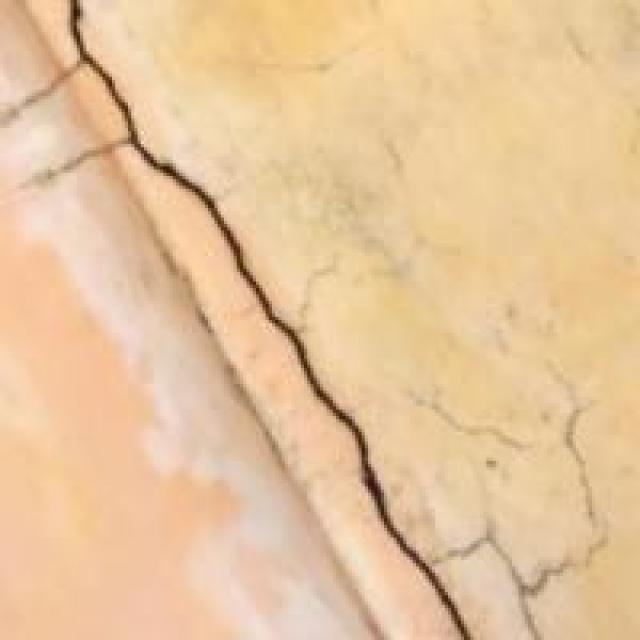Crack: (58, 0, 483, 637)
